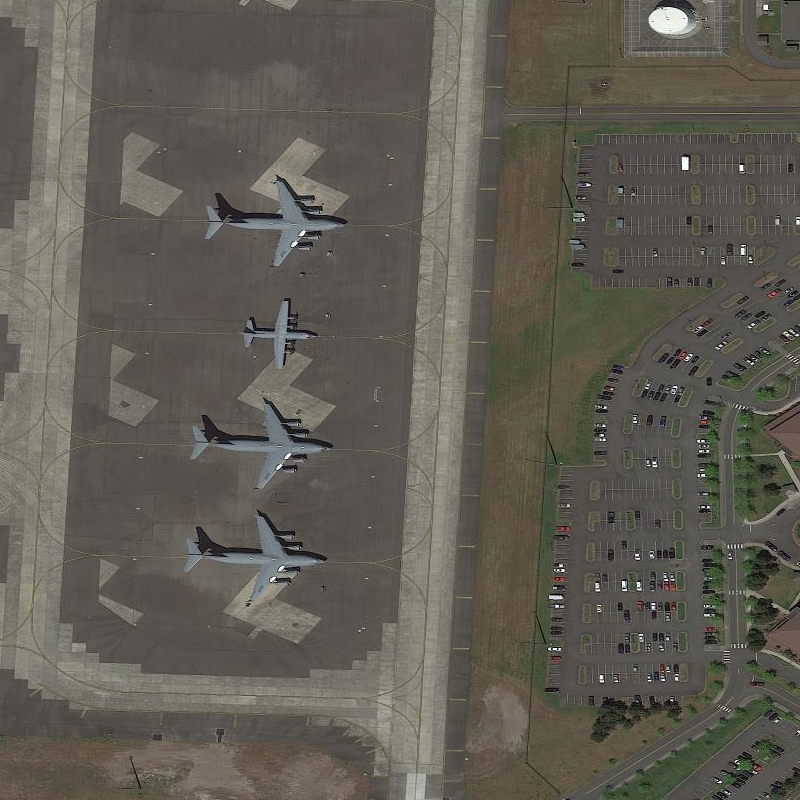A2: (236, 298, 317, 372)
A3: (179, 511, 329, 612), (185, 396, 332, 495), (202, 176, 349, 271)
